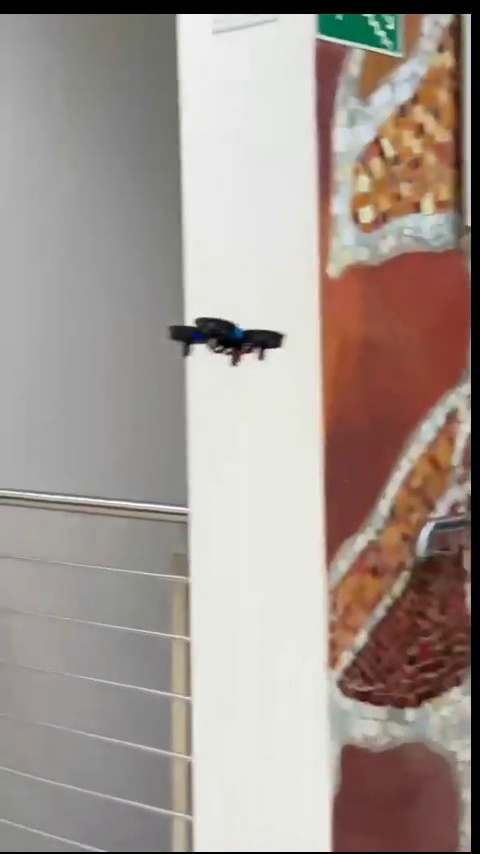drone: (170, 310, 289, 367)
